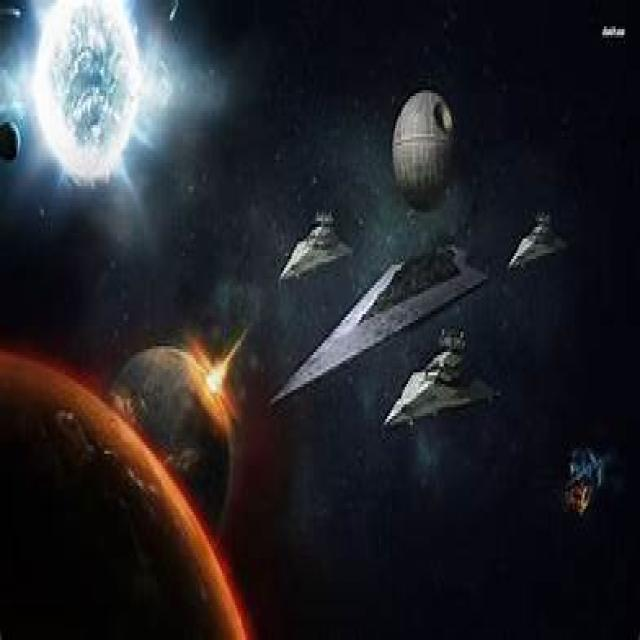deathStar: (388, 74, 461, 217)
